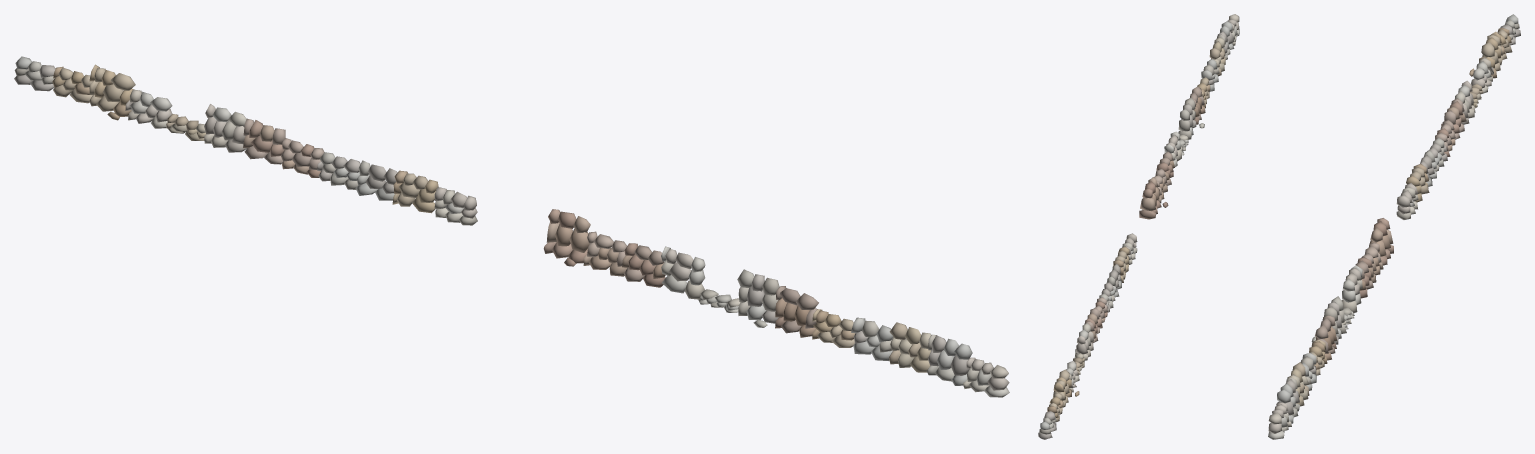
The model's file is farm_-37_-32_near.glb.
3 renders of one model, left to right at view 1: azimuth 30°, elevation 25°; view 2: azimuth 150°, elevation 25°; view 3: azimuth 330°, elevation 25°, orthographic. The views are drawn at different scales.
Visible parts, largest first — view 1: geometry_0; view 2: geometry_0; view 3: geometry_0.
Part boxes in pixels (<box>): geometry_0: <box>14,56,1009,397</box>; geometry_0: <box>1038,14,1239,439</box>; geometry_0: <box>1268,14,1520,439</box>.
Size of the model in its own units: 12.7 by 3.39 by 38.71.
